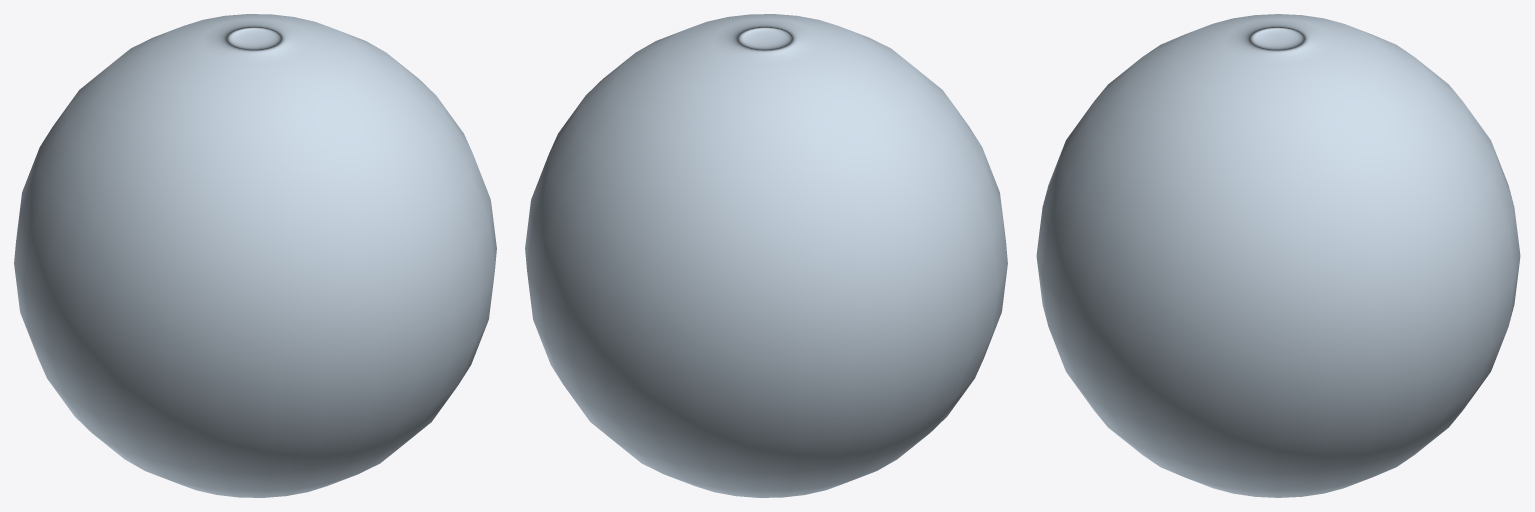
The model's file is 2071_PulseBombs_VortexBody.fbx.
The picture shows the model from 3 angles, left to right: view 1: azimuth 30°, elevation 25°; view 2: azimuth 150°, elevation 25°; view 3: azimuth 270°, elevation 25°; orthographic projection.
Visible parts, largest first — view 1: PART_BlueTransparentPulseEnvelope; view 2: PART_BlueTransparentPulseEnvelope; view 3: PART_BlueTransparentPulseEnvelope.
Part boxes in pixels (x1,y1,x2,y2): PART_BlueTransparentPulseEnvelope: (14,14,496,497); PART_BlueTransparentPulseEnvelope: (525,14,1007,497); PART_BlueTransparentPulseEnvelope: (1036,14,1520,497).
Size of the model in its own units: 132 by 132 by 132.
